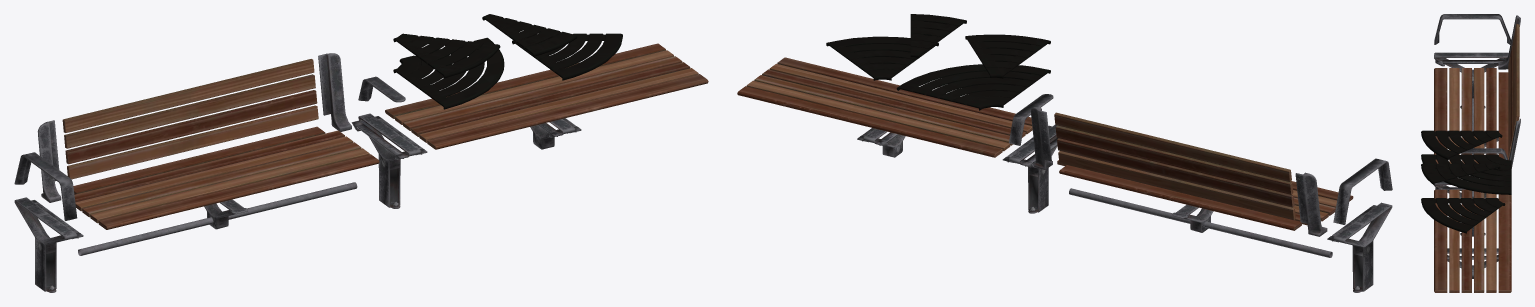
File: modular_street_seating.glb
3 views of the same model, side by side, from view 1: azimuth 30°, elevation 25°; view 2: azimuth 150°, elevation 25°; view 3: azimuth 270°, elevation 25° (orthographic). The views are drawn at different scales.
Visible parts, largest first — view 1: seat_back, seat, seat_bench, connector_90, legs_double, connector_45, legs_single, connector_60, crossbar, connector_30, back_support_l, arm_rest_01 (+4 smaller); view 2: seat_bench, seat_back, connector_90, seat, connector_60, legs_single, connector_45, crossbar, legs_double, connector_30, arm_rest_01, back_support_r (+4 smaller); view 3: seat_bench, seat, connector_90, connector_60, connector_45, seat_back, connector_30, legs_single, arm_rest_01, arm_rest_02, back_support_r, legs_double (+3 smaller).
Boxes of the visible parts, x1,y1,x2,y2 form: seat_back: (62,59,318,179); seat: (73,126,379,229); seat_bench: (385,43,708,149); connector_90: (393,37,504,109); legs_double: (351,113,427,208); connector_45: (393,33,500,78); legs_single: (14,197,83,292); connector_60: (512,33,622,80); crossbar: (78,182,357,255); connector_30: (482,14,577,56); back_support_l: (318,53,351,131); arm_rest_01: (14,152,77,220); seat_bench: (737,57,1032,157); seat_back: (1054,112,1295,220); connector_90: (896,64,1050,110); seat: (1057,160,1353,230); connector_60: (826,36,938,80); legs_single: (1327,202,1392,292); connector_45: (965,34,1050,78); crossbar: (1069,188,1332,257); legs_double: (1002,125,1058,213); connector_30: (910,14,966,57); arm_rest_01: (1333,158,1392,224); back_support_r: (1295,172,1327,236); seat_bench: (1434,189,1511,292); seat: (1434,68,1508,163); connector_90: (1421,154,1511,194); connector_60: (1421,198,1505,233); connector_45: (1421,130,1502,160); seat_back: (1508,24,1519,157); connector_30: (1421,163,1500,184); legs_single: (1434,52,1508,108); arm_rest_01: (1434,14,1511,44); arm_rest_02: (1460,148,1508,159); back_support_r: (1498,15,1520,69); legs_double: (1434,181,1486,236).
Bounding box in the file's own units: 4.34 × 0.95 × 0.7704.
Materials: 4 (4 with a texture image).
